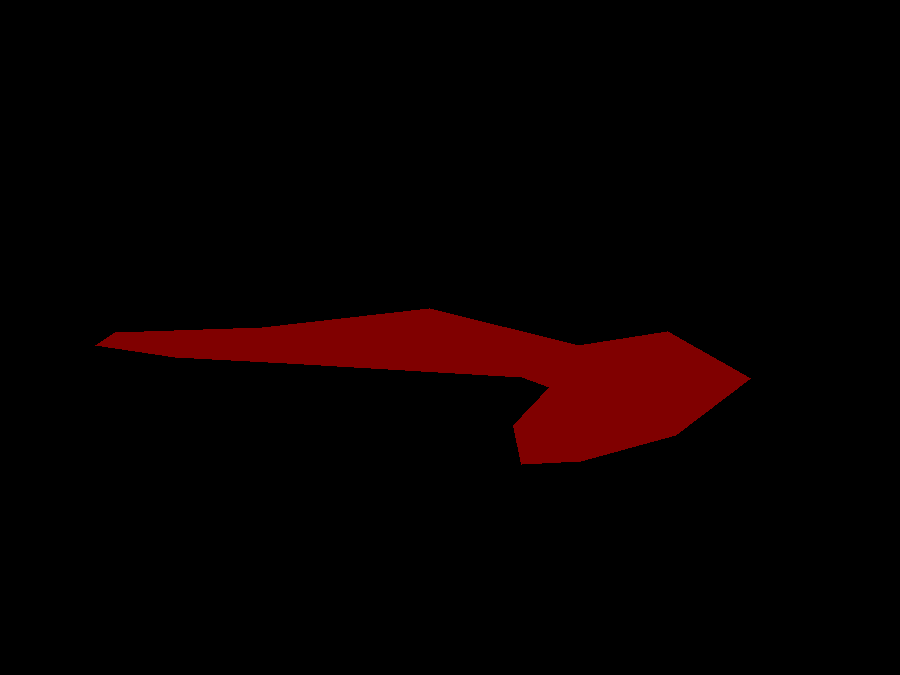fire: (95, 308, 750, 464)
